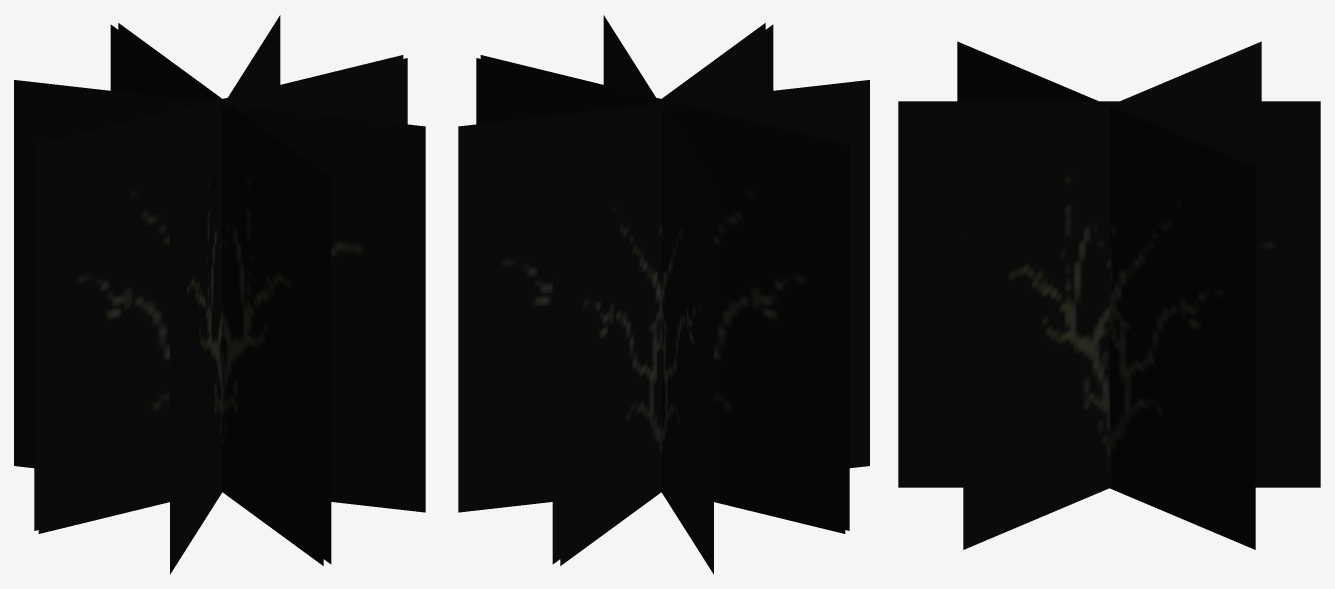
The model's file is bush03_winter.gltf.
The picture shows the model from 3 angles, left to right: view 1: azimuth 30°, elevation 25°; view 2: azimuth 150°, elevation 25°; view 3: azimuth 270°, elevation 25°; orthographic projection.
Parts seen in each view (by area): view 1: bush3_winter; view 2: bush3_winter; view 3: bush3_winter.
Part boxes in pixels (<box>): bush3_winter: <box>14,15,425,574</box>; bush3_winter: <box>458,15,869,574</box>; bush3_winter: <box>898,41,1320,549</box>.
Bounding box in the file's own units: 1 × 1 × 1.
Materials: 1 (1 with a texture image).
